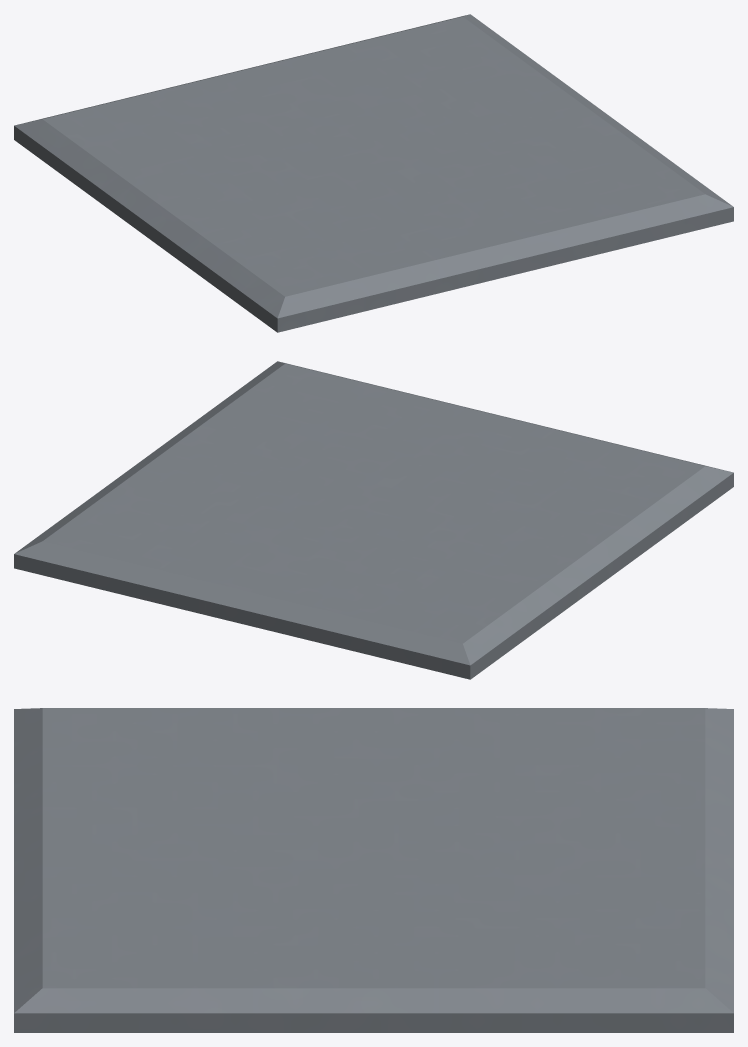
File: Floor_Stone.fbx
The picture shows the model from 3 angles, top to bottom: view 1: azimuth 30°, elevation 25°; view 2: azimuth 150°, elevation 25°; view 3: azimuth 270°, elevation 25°; orthographic projection. The views are drawn at different scales.
Parts seen in each view (by area): view 1: Floor_Stone; view 2: Floor_Stone; view 3: Floor_Stone.
Boxes of the visible parts, x1=… form: Floor_Stone: x1=14, y1=14, x2=733, y2=332; Floor_Stone: x1=14, y1=361, x2=733, y2=679; Floor_Stone: x1=14, y1=708, x2=733, y2=1032.
Bounding box in the file's own units: 2 × 0.1 × 2.
